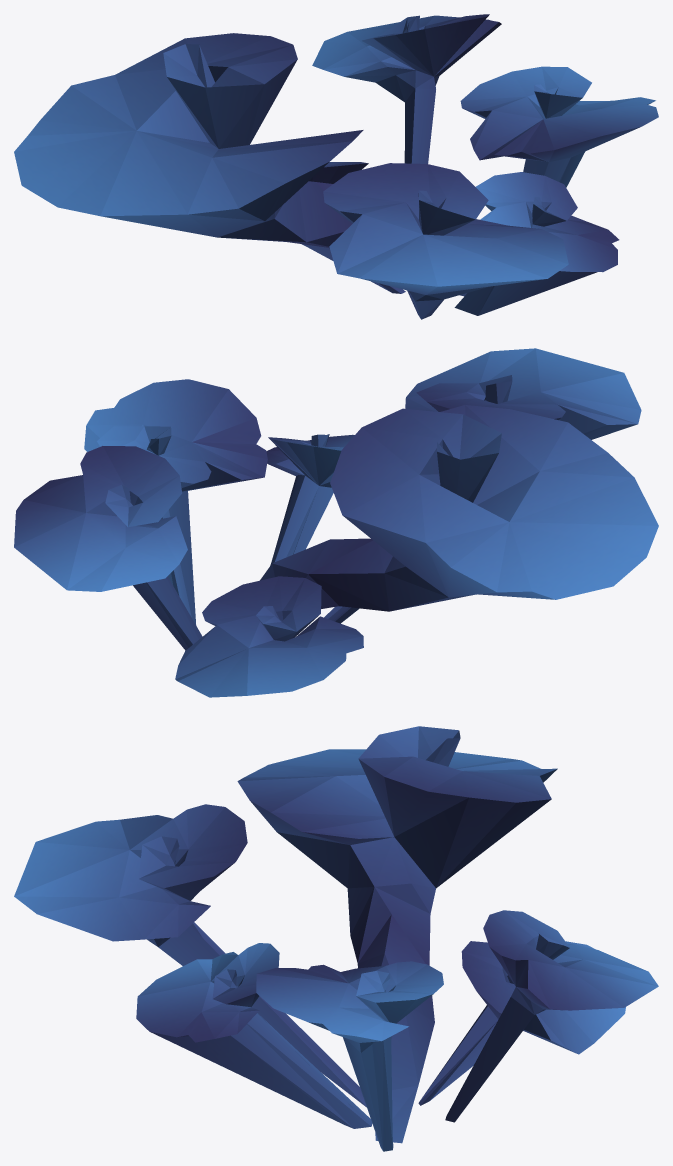
The model's file is ZLP_Mushroom_A_7.FBX.
The picture shows the model from 3 angles, top to bottom: view 1: azimuth 30°, elevation 25°; view 2: azimuth 150°, elevation 25°; view 3: azimuth 270°, elevation 25°; orthographic projection. The views are drawn at different scales.
Parts seen in each view (by area): view 1: ZLP_Mushroom_A_7; view 2: ZLP_Mushroom_A_7; view 3: ZLP_Mushroom_A_7.
Part boxes in pixels (x1,y1,x2,y2): ZLP_Mushroom_A_7: (14, 14, 658, 319); ZLP_Mushroom_A_7: (14, 348, 658, 697); ZLP_Mushroom_A_7: (14, 726, 658, 1151).
Size of the model in its own units: 160 by 76.76 by 160.
